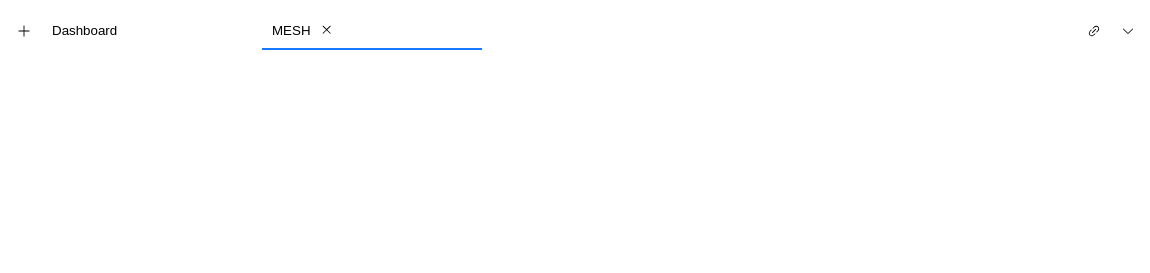
Scenario: WorkspaceTabBar › disables duplicate for routes that do not explicitly allow it
Right-click the tab with class "workspace-tab" showing "MESH" at (372, 31), box [262,12,482,50]
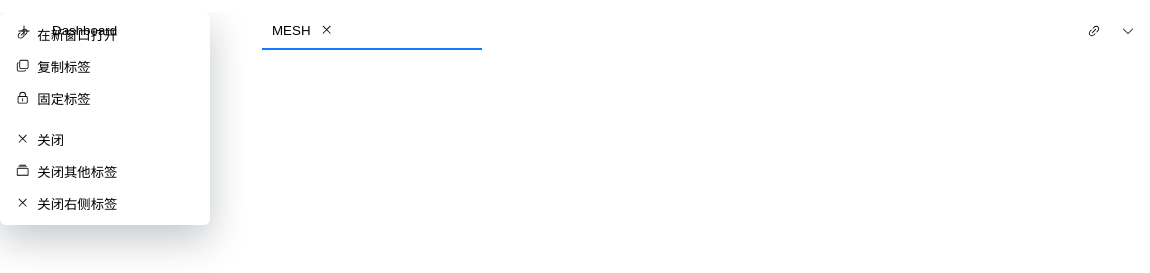
Check: the menu item "复制标签" is disabled, box [6,50,204,82]
